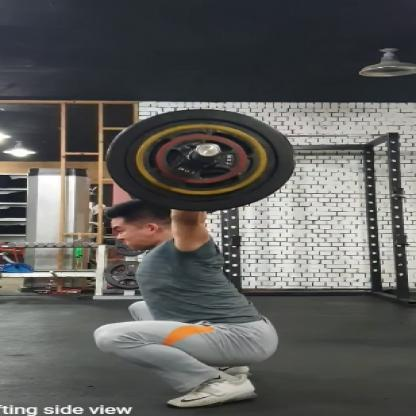barbell: (105, 108, 297, 213)
